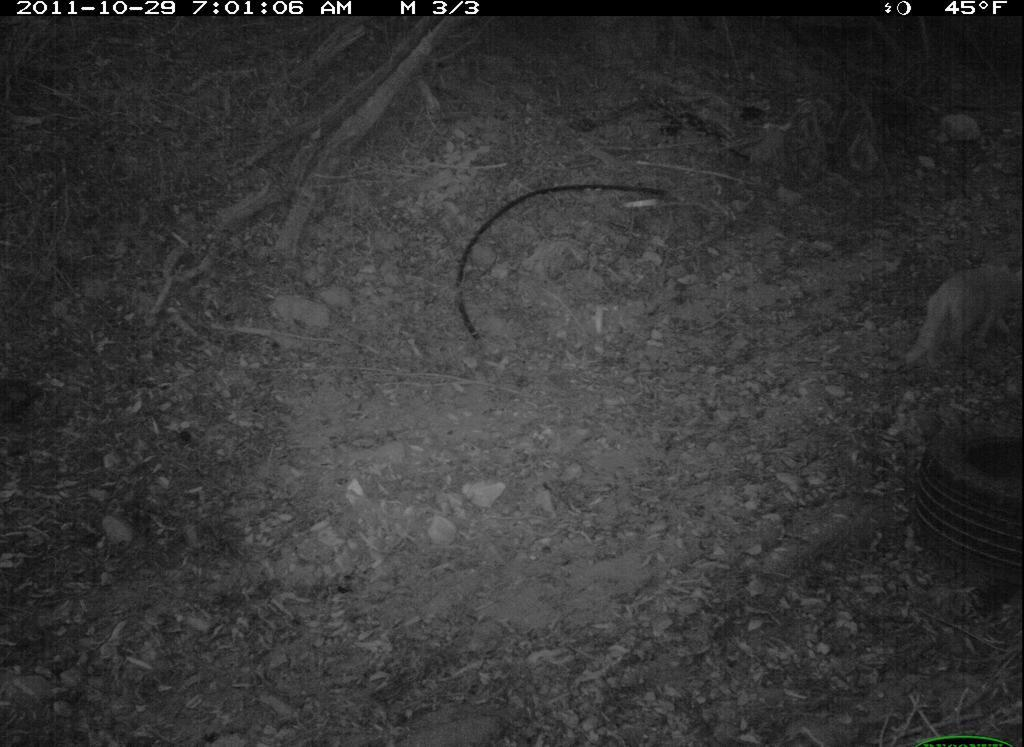cat: (902, 260, 1010, 373)
